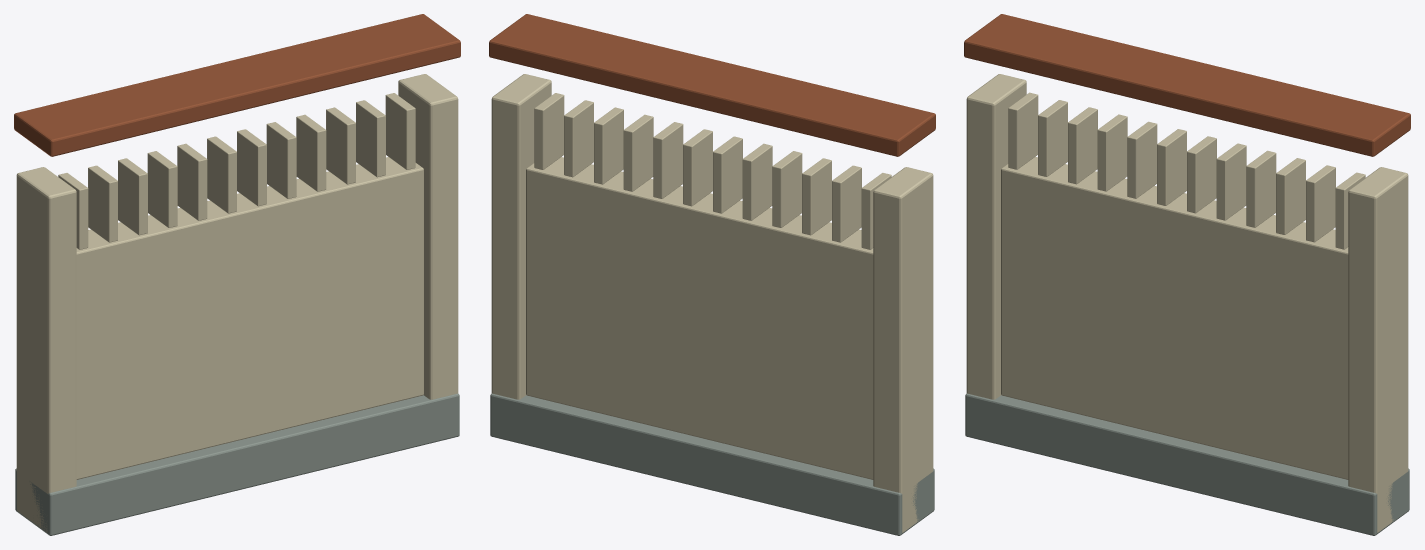
Rendered from source-edit.glb.
3 views of the same model, side by side, from view 1: azimuth 30°, elevation 25°; view 2: azimuth 150°, elevation 25°; view 3: azimuth 330°, elevation 25° (orthographic).
Visible parts, largest first — view 1: WALL_Infill, WALL_Cap, WALL_Base, WALL_EndPier, WALL_EndPier.001, VENT_Upright_4, VENT_Upright_8, VENT_Upright_11, VENT_Upright_3, VENT_Upright_7, VENT_Upright_1, VENT_Upright_5 (+5 smaller); view 2: WALL_Infill, WALL_Cap, WALL_Base, WALL_EndPier, WALL_EndPier.001, VENT_Upright_4, VENT_Upright_8, VENT_Upright_11, VENT_Upright_3, VENT_Upright_7, VENT_Upright_1, VENT_Upright_5 (+5 smaller); view 3: WALL_Infill, WALL_Cap, WALL_Base, WALL_EndPier.001, WALL_EndPier, VENT_Upright_3, VENT_Upright_7, VENT_Upright_0, VENT_Upright_8, VENT_Upright_4, VENT_Upright_10, VENT_Upright_6 (+5 smaller).
Part boxes in pixels (bbox=[...]): WALL_Infill: bbox=[76, 157, 423, 479]; WALL_Cap: bbox=[14, 14, 460, 156]; WALL_Base: bbox=[15, 393, 459, 535]; WALL_EndPier: bbox=[16, 167, 76, 532]; WALL_EndPier.001: bbox=[398, 74, 458, 399]; VENT_Upright_4: bbox=[177, 143, 207, 220]; VENT_Upright_8: bbox=[296, 114, 326, 191]; VENT_Upright_11: bbox=[385, 93, 415, 169]; VENT_Upright_3: bbox=[147, 151, 177, 227]; VENT_Upright_7: bbox=[266, 122, 296, 198]; VENT_Upright_1: bbox=[88, 165, 117, 242]; VENT_Upright_5: bbox=[207, 136, 236, 213]; WALL_Infill: bbox=[526, 157, 873, 479]; WALL_Cap: bbox=[489, 14, 935, 156]; WALL_Base: bbox=[490, 393, 934, 535]; WALL_EndPier: bbox=[873, 167, 933, 532]; WALL_EndPier.001: bbox=[491, 74, 551, 399]; VENT_Upright_4: bbox=[742, 143, 772, 220]; VENT_Upright_8: bbox=[623, 114, 653, 191]; VENT_Upright_11: bbox=[534, 93, 564, 169]; VENT_Upright_3: bbox=[772, 151, 802, 227]; VENT_Upright_7: bbox=[653, 122, 683, 198]; VENT_Upright_1: bbox=[832, 165, 861, 242]; VENT_Upright_5: bbox=[713, 136, 742, 213]; WALL_Infill: bbox=[1001, 156, 1348, 479]; WALL_Cap: bbox=[964, 14, 1410, 156]; WALL_Base: bbox=[965, 393, 1409, 535]; WALL_EndPier.001: bbox=[1348, 167, 1408, 532]; WALL_EndPier: bbox=[966, 74, 1026, 399]; VENT_Upright_3: bbox=[1097, 114, 1127, 191]; VENT_Upright_7: bbox=[1216, 143, 1246, 220]; VENT_Upright_0: bbox=[1008, 92, 1038, 169]; VENT_Upright_8: bbox=[1246, 150, 1276, 227]; VENT_Upright_4: bbox=[1127, 121, 1157, 198]; VENT_Upright_10: bbox=[1306, 165, 1335, 242]; VENT_Upright_6: bbox=[1187, 136, 1216, 213].
Size of the model in its own units: 2 by 1.85 by 0.32.
